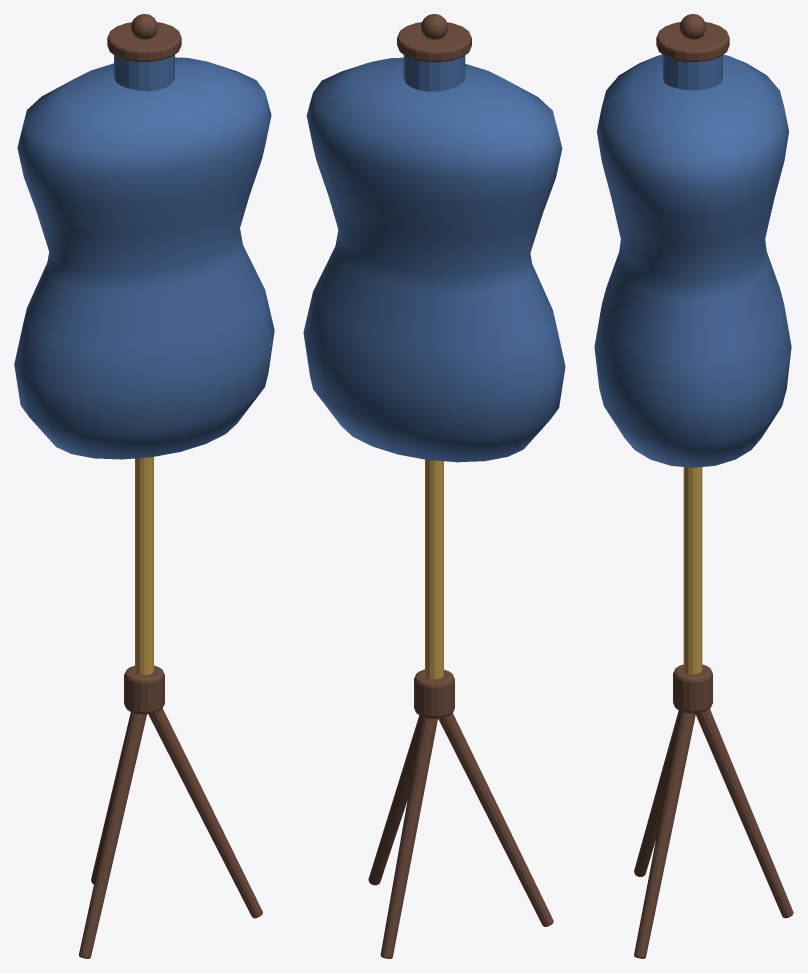
Rendered from hh_cat_mannequin.glb.
The picture shows the model from 3 angles, left to right: view 1: azimuth 30°, elevation 25°; view 2: azimuth 150°, elevation 25°; view 3: azimuth 270°, elevation 25°; orthographic projection.
Parts seen in each view (by area): view 1: body, pole, leg.001, leg.002, cap, neck, hub, cap.001; view 2: body, pole, leg, leg.001, cap, leg.002, neck, hub, cap.001; view 3: body, pole, leg.002, leg, cap, neck, hub, leg.001, cap.001.
Boxes of the visible parts, bbox=[...] form: body: bbox=[14, 57, 274, 459]; pole: bbox=[135, 457, 153, 675]; leg.001: bbox=[79, 712, 146, 958]; leg.002: bbox=[148, 709, 262, 918]; cap: bbox=[107, 22, 181, 61]; neck: bbox=[114, 55, 174, 91]; hub: bbox=[124, 665, 164, 714]; cap.001: bbox=[131, 14, 157, 39]; body: bbox=[303, 57, 565, 462]; pole: bbox=[425, 459, 443, 679]; leg: bbox=[380, 716, 437, 958]; leg.001: bbox=[438, 713, 553, 926]; cap: bbox=[397, 22, 471, 62]; leg.002: bbox=[368, 715, 421, 885]; neck: bbox=[403, 55, 465, 91]; hub: bbox=[414, 669, 454, 718]; cap.001: bbox=[421, 14, 447, 39]; body: bbox=[594, 54, 791, 467]; pole: bbox=[683, 467, 702, 674]; leg.002: bbox=[634, 711, 695, 958]; leg: bbox=[695, 709, 793, 918]; cap: bbox=[656, 22, 729, 61]; neck: bbox=[663, 55, 722, 90]; hub: bbox=[673, 664, 712, 713]; leg.001: bbox=[634, 710, 680, 876]; cap.001: bbox=[679, 14, 706, 39].
Bounding box in the file's own units: 0.42 × 1.5 × 0.3.
